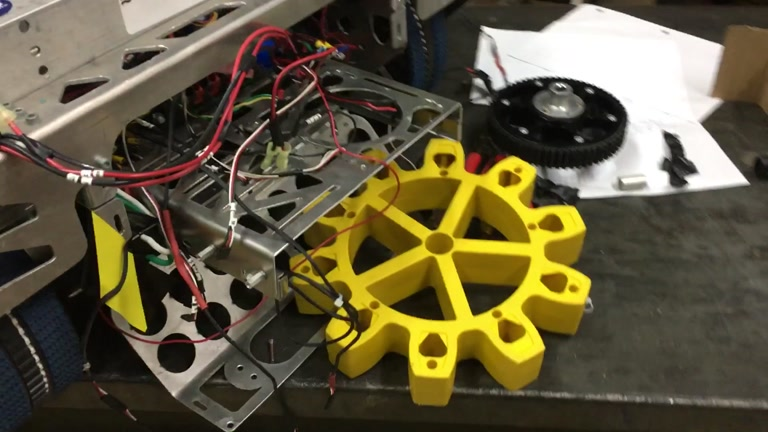gear: (289, 139, 591, 406)
